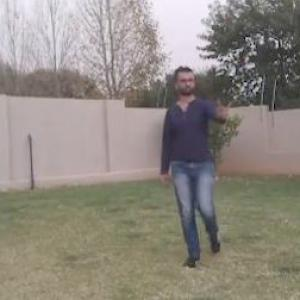takeoff-hand: (215, 91, 234, 126)
